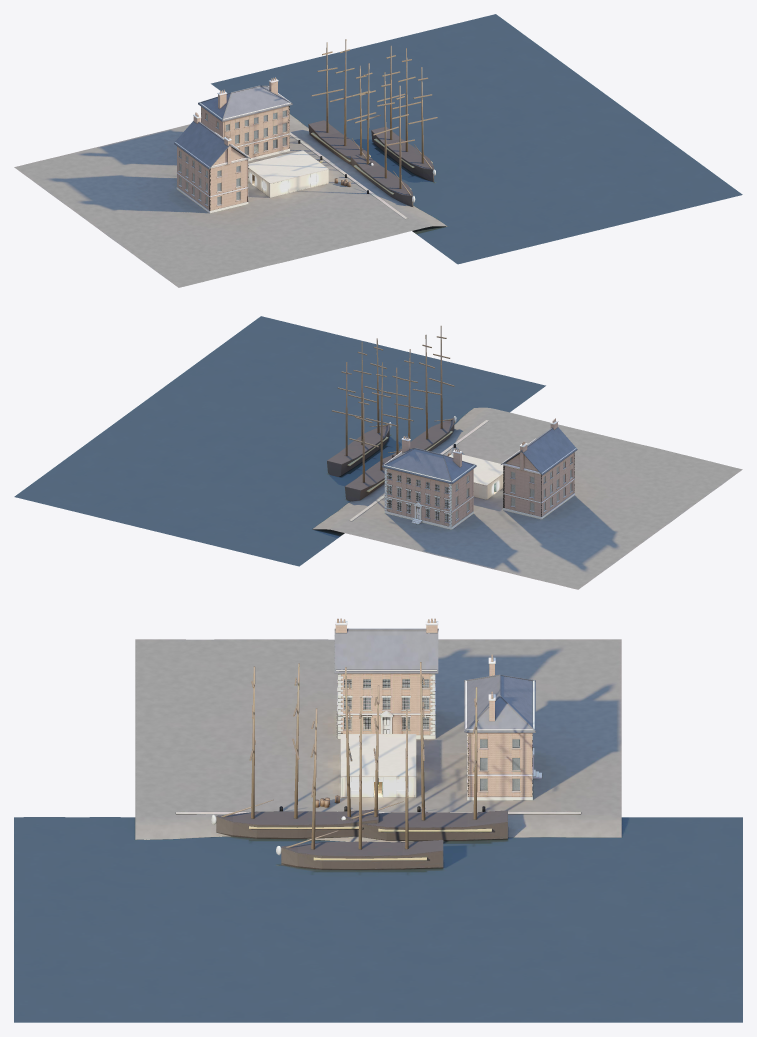
The model's file is room.gltf.
3 renders of one model, top to bottom at view 1: azimuth 30°, elevation 25°; view 2: azimuth 150°, elevation 25°; view 3: azimuth 270°, elevation 25°, orthographic. The views are drawn at different scales.
Parts seen in each view (by area): view 1: MESH_harbour, MESH_cobbles, MESH_housewall, MESH_hull, MESH_slate, MESH_mast, MESH_ceiling, MESH_framepaint, MESH_glass, MESH_plaster; view 2: MESH_harbour, MESH_cobbles, MESH_housewall, MESH_slate, MESH_hull, MESH_mast, MESH_framepaint, MESH_glass, MESH_ceiling; view 3: MESH_harbour, MESH_cobbles, MESH_hull, MESH_slate, MESH_housewall, MESH_mast, MESH_framepaint, MESH_ceiling, MESH_glass, MESH_plaster, MESH_hullband.
Boxes of the visible parts, left/top/right/bottom form: MESH_harbour: left=211, top=14, right=742, bottom=264; MESH_cobbles: left=14, top=114, right=447, bottom=287; MESH_housewall: left=177, top=77, right=289, bottom=210; MESH_hull: left=308, top=120, right=433, bottom=206; MESH_slate: left=174, top=85, right=292, bottom=169; MESH_mast: left=311, top=39, right=437, bottom=195; MESH_ceiling: left=248, top=150, right=328, bottom=183; MESH_framepaint: left=175, top=79, right=435, bottom=213; MESH_glass: left=179, top=110, right=316, bottom=204; MESH_plaster: left=248, top=168, right=328, bottom=197; MESH_harbour: left=14, top=316, right=545, bottom=566; MESH_cobbles: left=312, top=407, right=742, bottom=589; MESH_housewall: left=386, top=418, right=574, bottom=526; MESH_slate: left=382, top=427, right=577, bottom=484; MESH_hull: left=327, top=417, right=454, bottom=501; MESH_mast: left=331, top=325, right=454, bottom=482; MESH_framepaint: left=383, top=416, right=576, bottom=529; MESH_glass: left=388, top=457, right=571, bottom=522; MESH_ceiling: left=448, top=453, right=503, bottom=485; MESH_harbour: left=14, top=817, right=742, bottom=1022; MESH_cobbles: left=135, top=639, right=621, bottom=842; MESH_hull: left=216, top=809, right=507, bottom=869; MESH_slate: left=334, top=628, right=535, bottom=732; MESH_housewall: left=335, top=618, right=532, bottom=796; MESH_mast: left=221, top=662, right=478, bottom=849; MESH_framepaint: left=211, top=621, right=541, bottom=855; MESH_ceiling: left=340, top=734, right=416, bottom=776; MESH_glass: left=344, top=679, right=519, bottom=790; MESH_plaster: left=340, top=777, right=416, bottom=797; MESH_hullband: left=249, top=826, right=491, bottom=860.
Size of what is drawn, in the model's own units: 110 by 25.02 by 90.
Materials: 40 (40 with a texture image).
